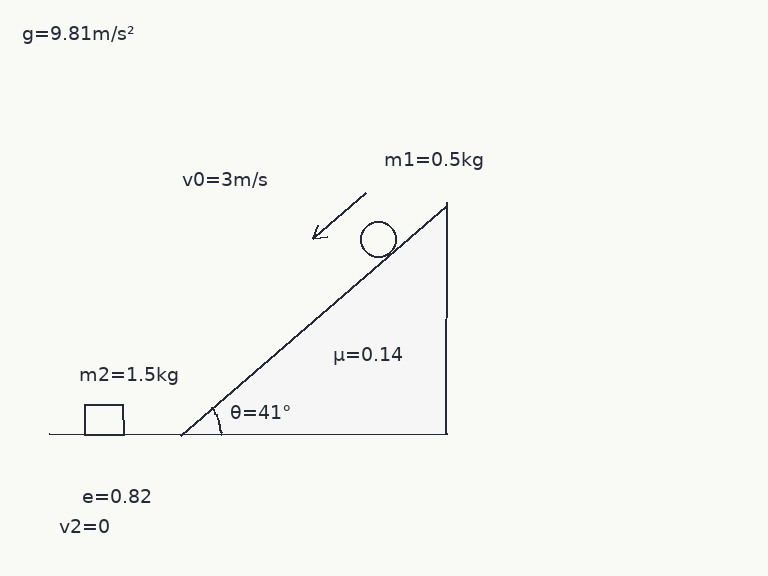ball: (358, 219, 398, 259)
block: (82, 403, 126, 436)
ramp: (179, 202, 448, 436)
